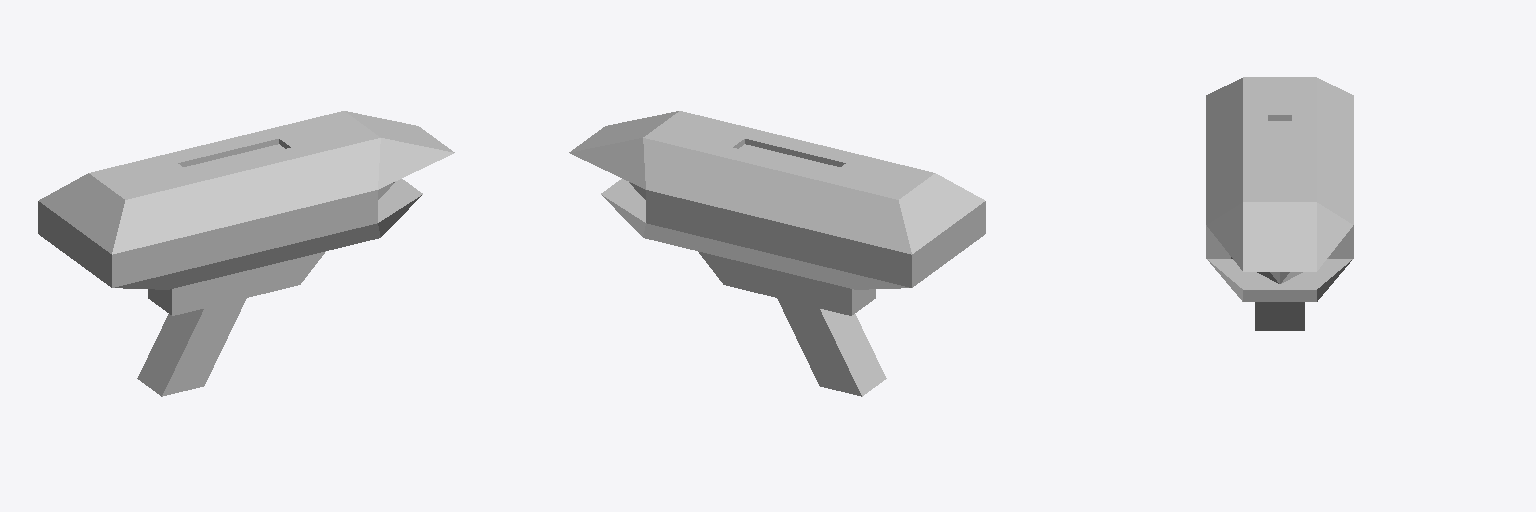
Rendered from plasma_cannon.obj.
3 views of the same model, side by side, from view 1: azimuth 30°, elevation 25°; view 2: azimuth 150°, elevation 25°; view 3: azimuth 270°, elevation 25° (orthographic).
Visible parts, largest first — view 1: m; view 2: m; view 3: m.
Part boxes in pixels (left/top/right/bottom): m: left=38, top=111, right=454, bottom=396; m: left=569, top=111, right=985, bottom=396; m: left=1206, top=77, right=1353, bottom=330.
Size of the model in its own units: 34 by 19 by 12.